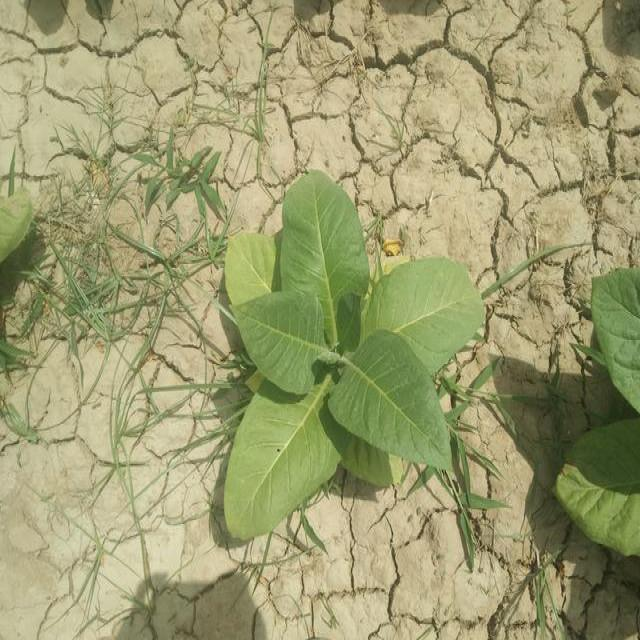crop: (222, 174, 486, 537), (550, 270, 640, 555)
